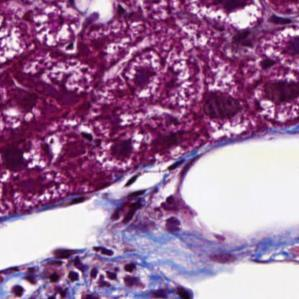inflammation: (48, 242, 138, 299), (200, 88, 244, 125), (260, 74, 299, 108), (0, 138, 31, 176), (108, 130, 136, 165), (133, 63, 158, 99)
